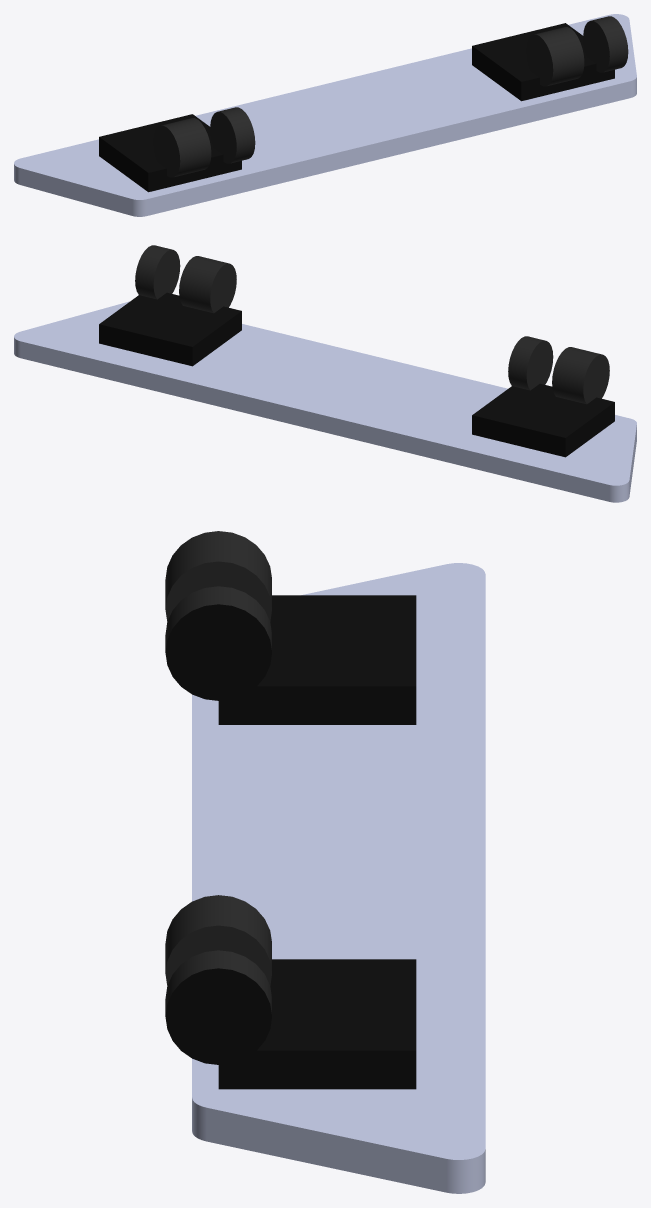
The model's file is Base top.dae.
3 views of the same model, one above another, from view 1: azimuth 30°, elevation 25°; view 2: azimuth 150°, elevation 25°; view 3: azimuth 270°, elevation 25° (orthographic). The views are drawn at different scales.
Parts seen in each view (by area): view 1: Actor0; view 2: Actor0; view 3: Actor0.
Part boxes in pixels (<box>): Actor0: <box>14,14,636,216</box>; Actor0: <box>14,245,636,502</box>; Actor0: <box>165,531,485,1193</box>.
Size of the model in its own units: 0.2649 by 0.032 by 0.06.
